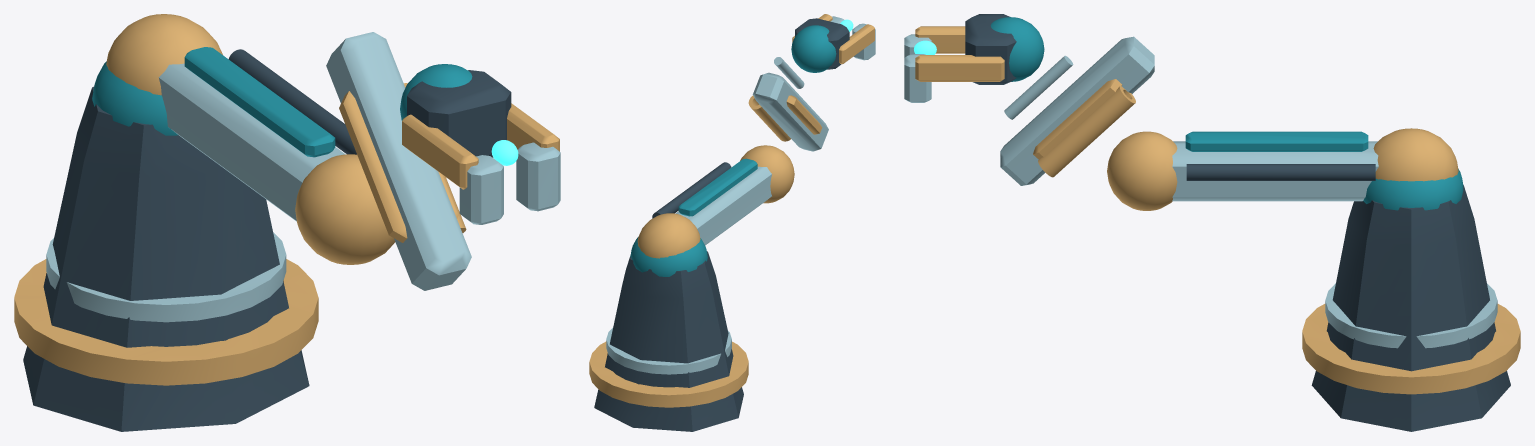
Rendered from ArticulatedServiceArm.glb.
3 renders of one model, left to right at view 1: azimuth 30°, elevation 25°; view 2: azimuth 150°, elevation 25°; view 3: azimuth 270°, elevation 25°, orthographic. The views are drawn at different scales.
Visible parts, largest first — view 1: base, shoulder, forearm, claw; view 2: base, shoulder, forearm, claw; view 3: base, shoulder, forearm, claw.
Boxes of the visible parts, x1,y1,x2,y2 form: base: (14, 61, 318, 431); shoulder: (106, 14, 395, 264); forearm: (326, 32, 472, 290); claw: (402, 70, 560, 224); base: (589, 237, 748, 431); shoulder: (637, 145, 794, 258); forearm: (748, 25, 836, 151); claw: (792, 14, 875, 69); base: (1302, 169, 1520, 431); shoulder: (1107, 128, 1458, 210); forearm: (990, 17, 1154, 185); claw: (904, 14, 1016, 102).
Size of the model in its own units: 2.1 by 3.84 by 5.87.
